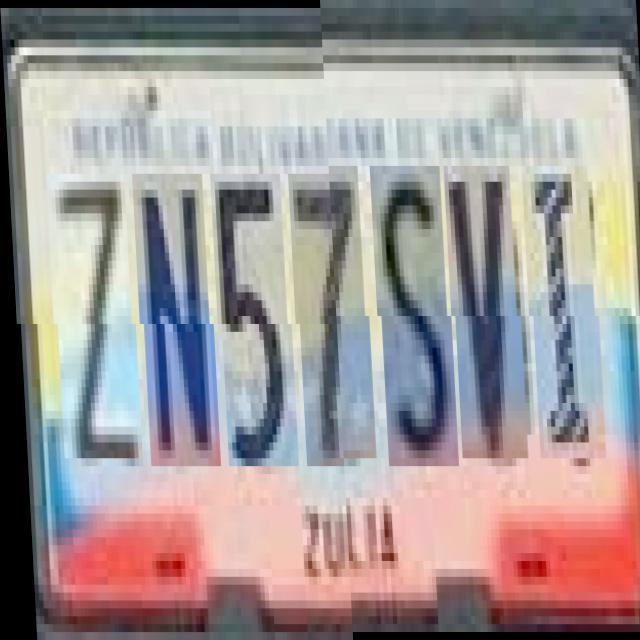5: (212, 174, 294, 466)
7: (290, 174, 372, 466)
I: (524, 174, 601, 466)
N: (134, 174, 216, 466)
S: (372, 174, 454, 474)
V: (446, 174, 524, 466)
Z: (48, 174, 138, 458)
